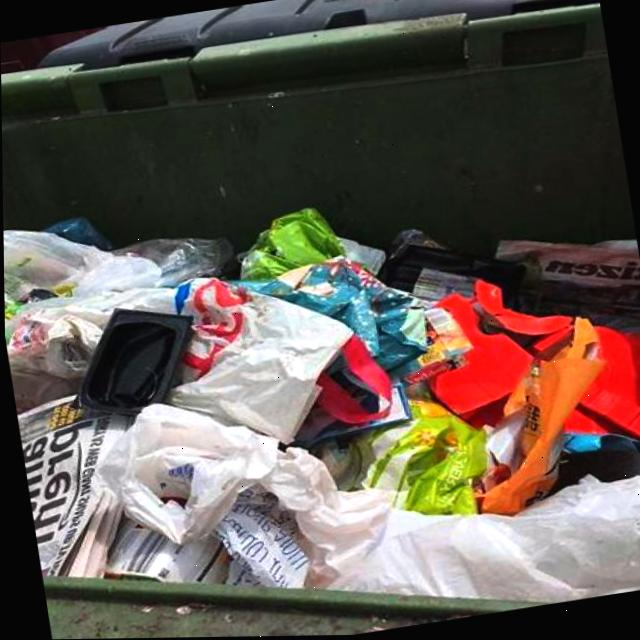Garbage: (3, 208, 640, 605)
Plastic: (313, 401, 485, 515), (426, 295, 531, 417), (563, 328, 640, 442), (474, 280, 570, 337), (459, 398, 506, 428), (530, 327, 571, 353), (562, 435, 600, 454)
Plastic_Bag: (99, 403, 389, 587), (3, 217, 234, 411), (238, 210, 471, 383), (328, 478, 640, 605), (165, 278, 390, 443), (315, 401, 486, 515)
Plastic_Container: (76, 308, 190, 414), (376, 246, 524, 307), (550, 437, 640, 494)
